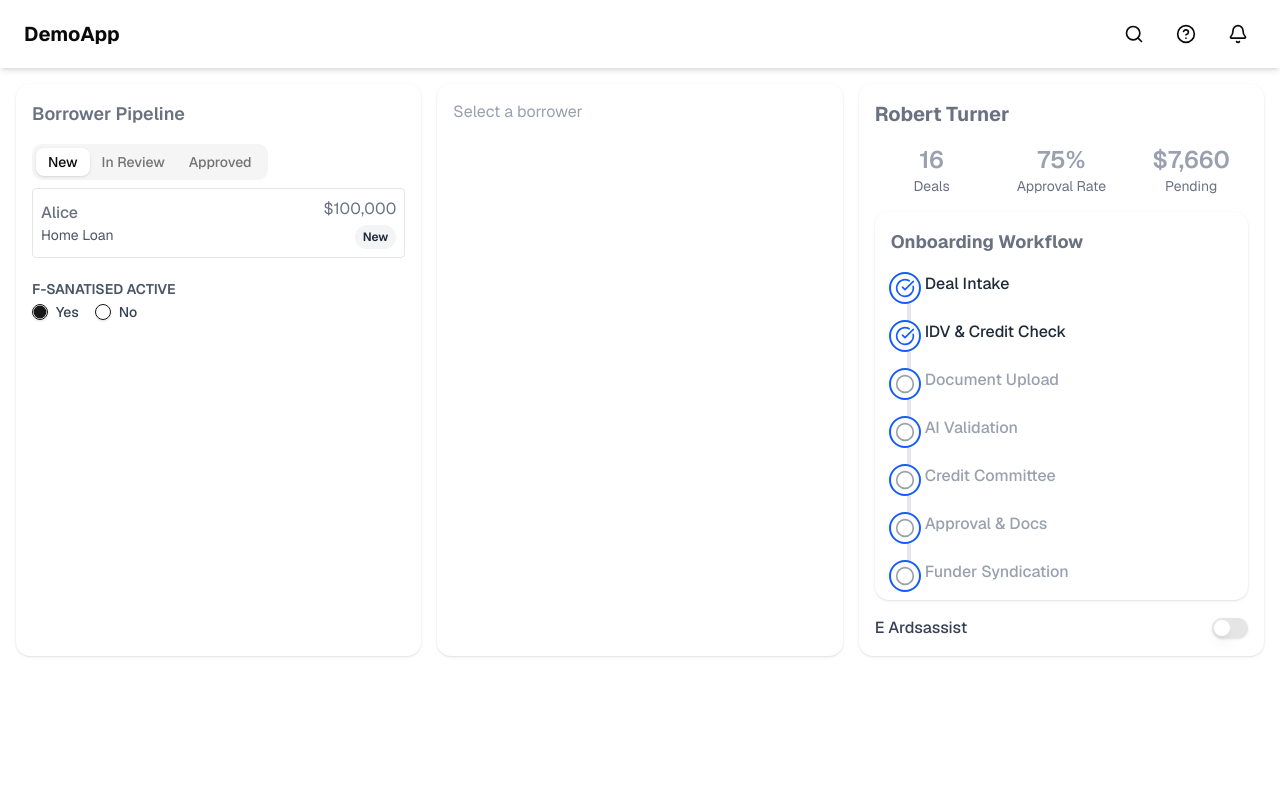
Test: Borrower Pipeline & Details › expands and collapses AI Explainability
Click the list item with test id "borrower-item-". click: (219, 223)
box: [32, 188, 405, 258]
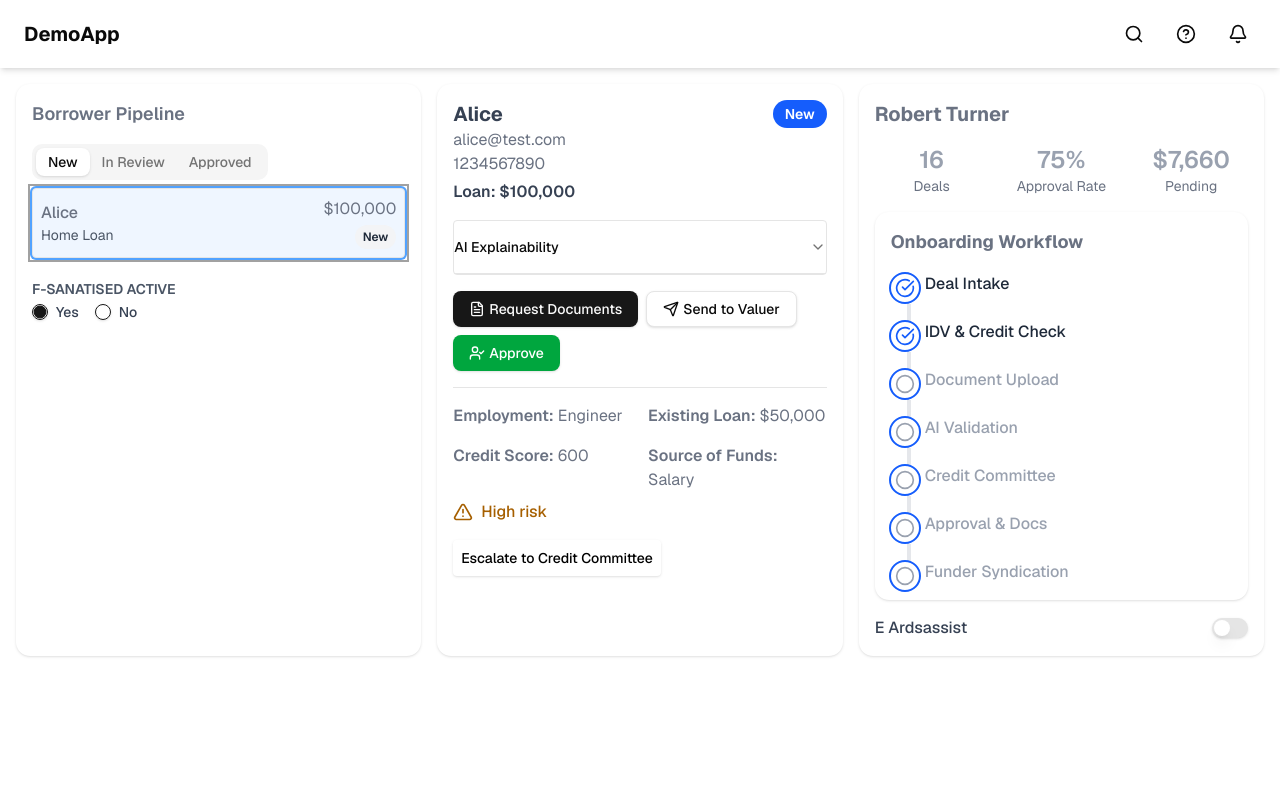
Click the element with test id "ai-accordion". click: (640, 248)
box: [454, 221, 825, 274]
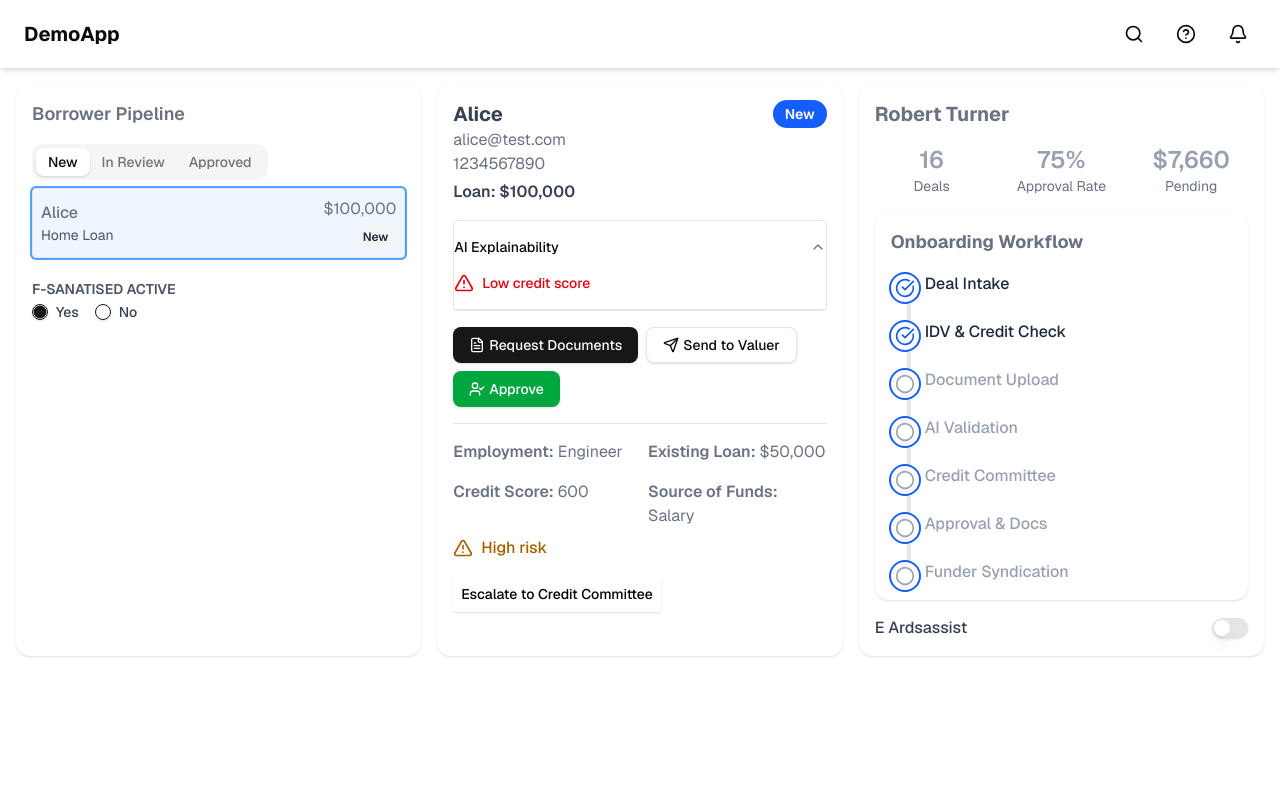
expect the element with test id "ai-flag" reads "Low credit score": met, box [454, 273, 590, 293]
